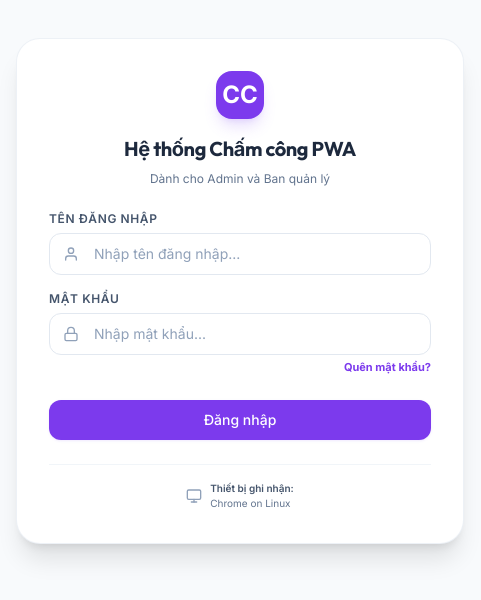
it: React Admin Login Component Tests › 2. Show validation errors on empty submission
The width and height of the screenshot is (481, 600).
What coordinates should you click on to do the following:
click the button "Đăng nhập"
I would click on:
 (240, 420)
Its box is [49,400,431,440].
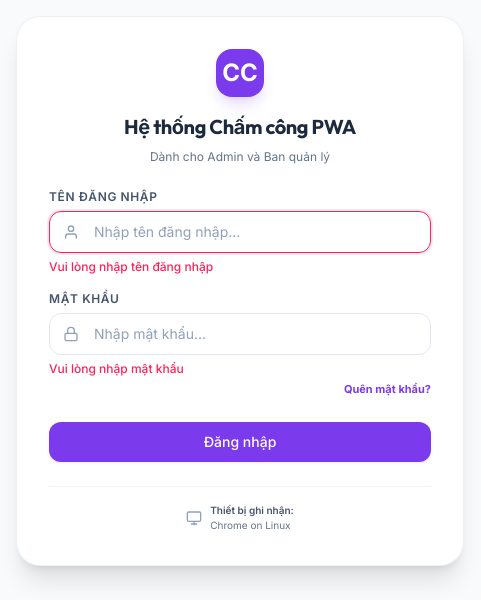
Now the text "Vui lòng nhập tên đăng nhập" is shown, box [49,259,213,274]
Now the text "Vui lòng nhập mật khẩu" is shown, box [49,361,184,376]
